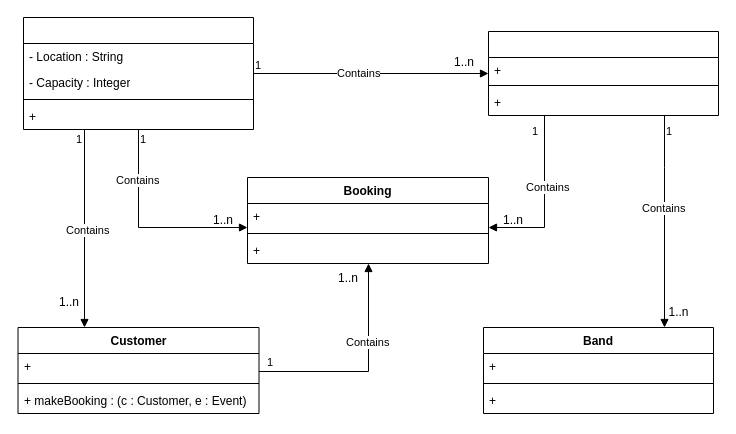
The diagram is 736 pixels wide and 434 high, and some of its shapes have lost their labels. Here are the shapes that lost their labels. From the top down, the box of each, then its label:
(22, 16, 254, 130): Venue
(488, 30, 718, 116): Event
